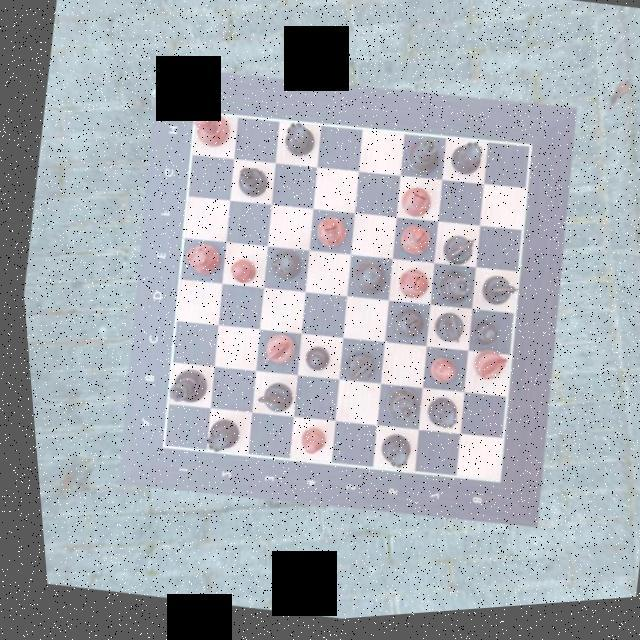chess-table-corners: (508, 140, 540, 169), (177, 96, 209, 125), (139, 434, 173, 461), (475, 472, 502, 498)
